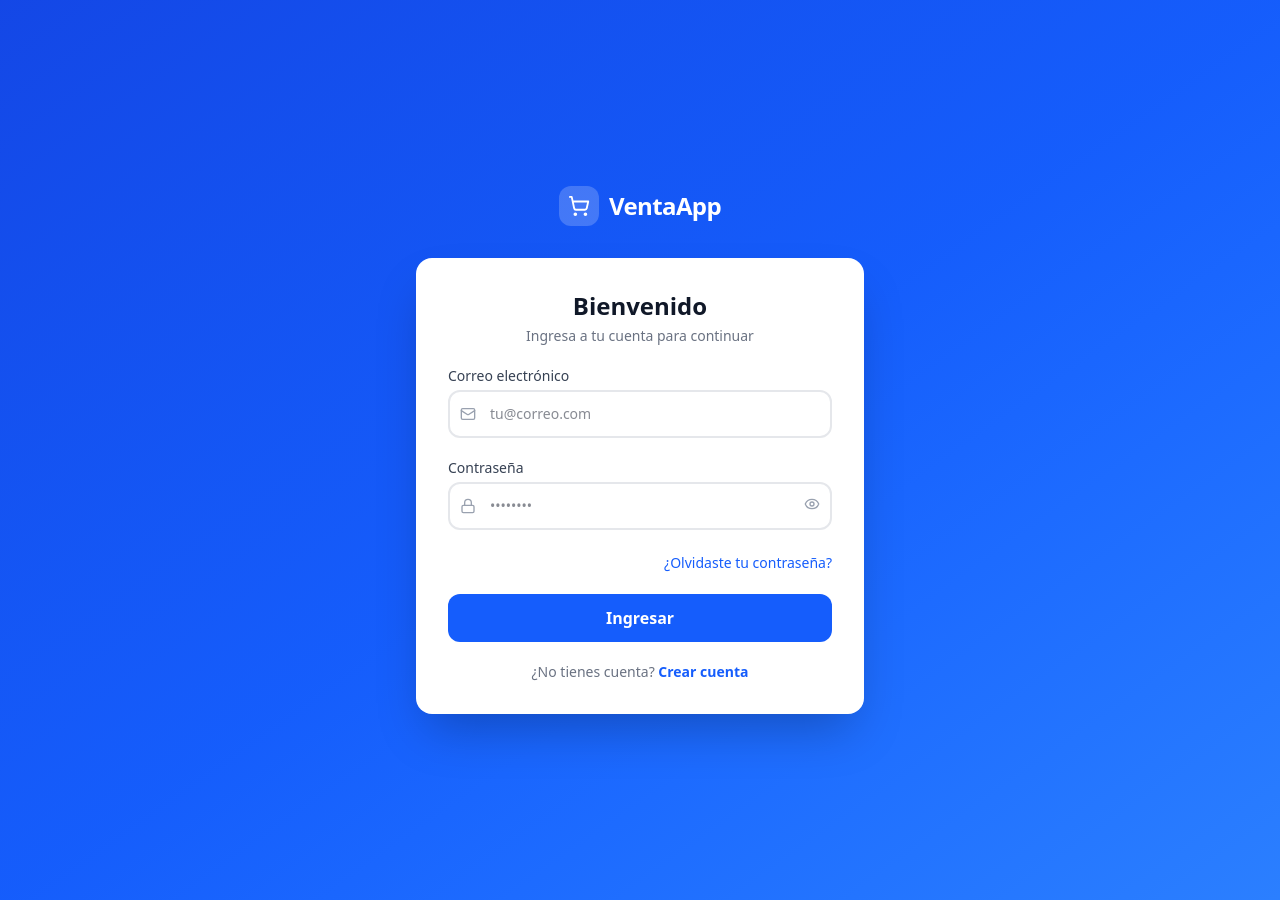
Test case: LoginView › shows error for invalid email format
This screenshot has width=1280, height=900.
Type "noesunemail" into the field with placeholder "tu@correo.com" at (640, 414), box [448,390,832,438]
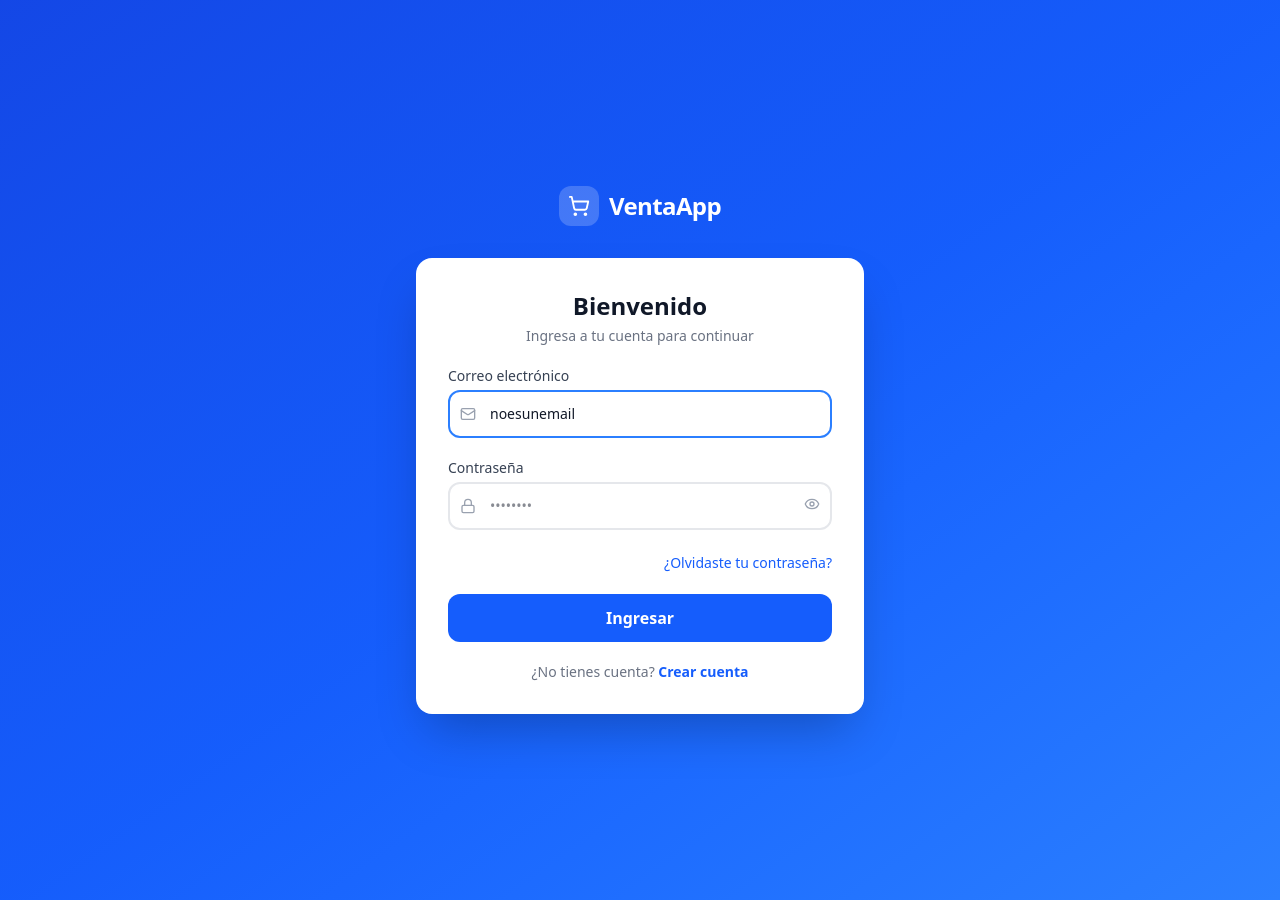
Click the button "Ingresar" at (640, 618), box [448,594,832,642]
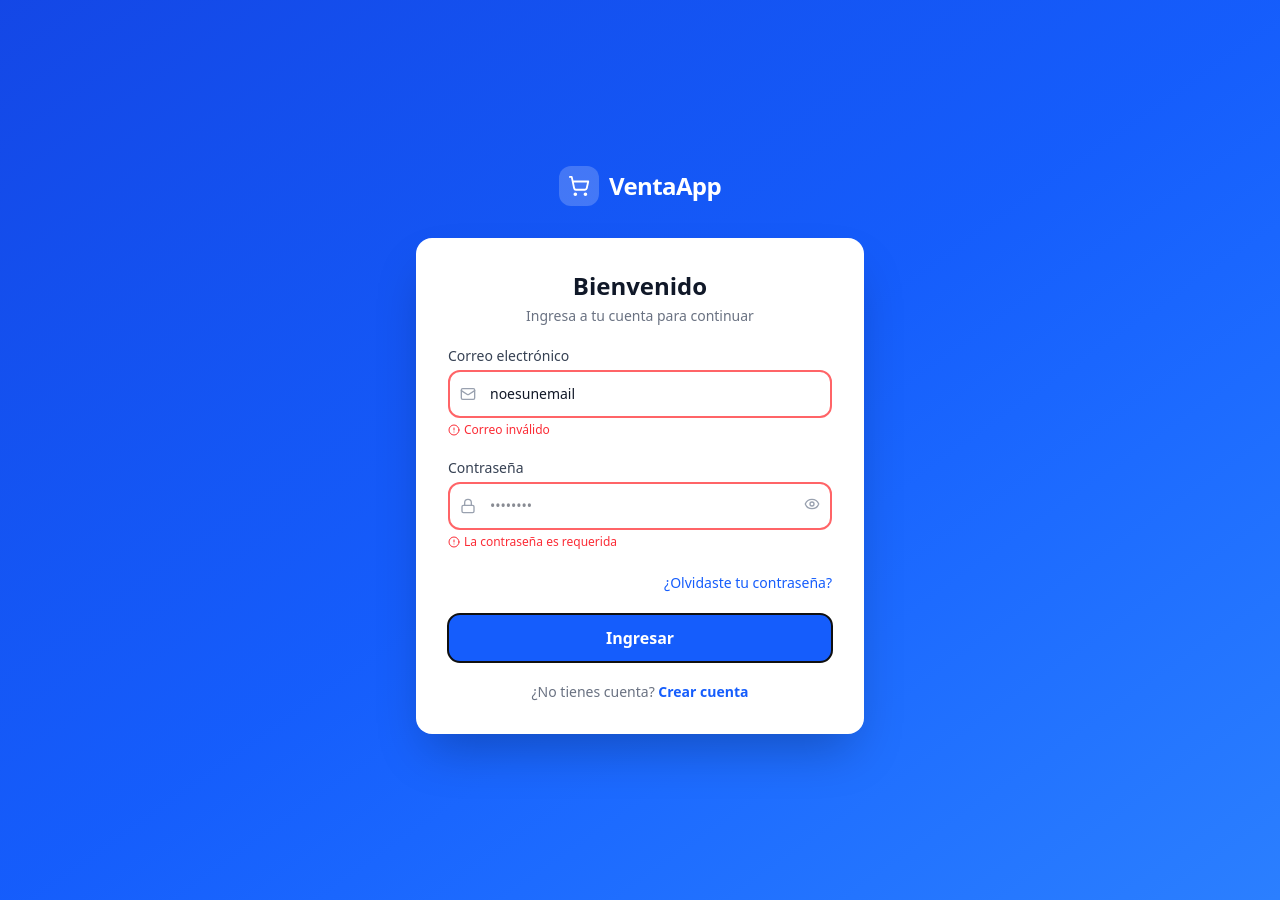
Now the text "Correo inválido" is shown, box [448,421,550,438]
